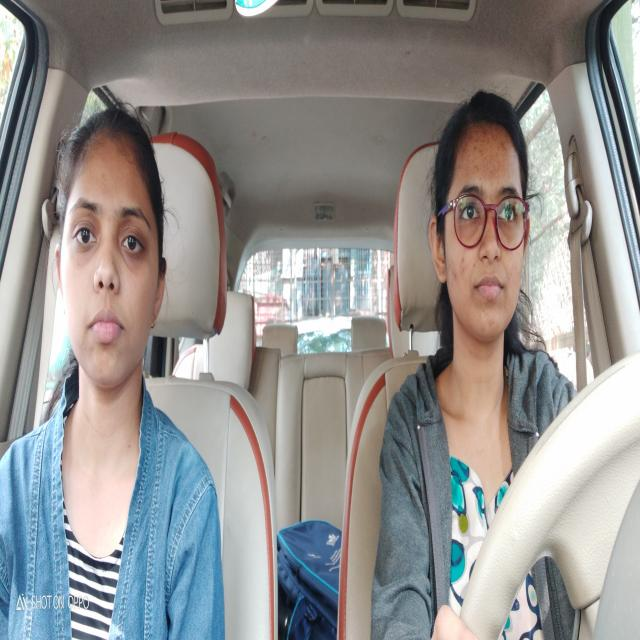person: (51, 93, 173, 390), (426, 82, 540, 368)
